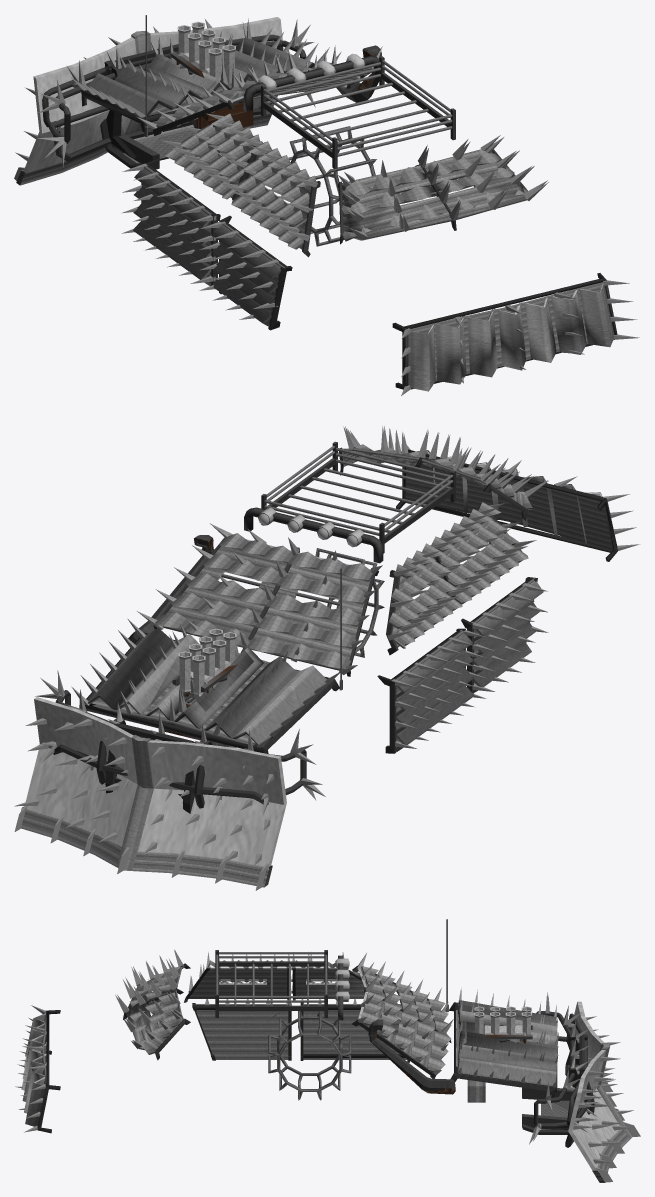
The model's file is CarModernArmor.fbx.
The picture shows the model from 3 angles, top to bottom: view 1: azimuth 30°, elevation 25°; view 2: azimuth 150°, elevation 25°; view 3: azimuth 270°, elevation 25°; orthographic projection. The views are drawn at different scales.
Visible parts, largest first — view 1: trunkreinforcedrear, plow, roofrack, windowheavyrear, hoodreinforcedfront, doorfrontreinforcedleft, windowrearreinforcedleft, windowreinforcedrear, doorrearreinforcedleft, windowfrontreinforcedleft, hoodreinforcedfrontscoop, airscooppiped (+24 smaller); view 2: plow, windowreinforcedfront, plow_spiked, hoodreinforcedfront, hoodreinforcedfrontscoop, roofrack, trunkheavyrear, windowheavyfront, trunkheavyspikedrear, doorfrontreinforcedleft, windowrearreinforcedleft, windowheavyspikedfront (+24 smaller); view 3: hoodreinforcedfront, plow, windowreinforcedfront, doorrearheavyleft, roofrack, hoodreinforcedfrontscoop, doorfrontheavyleft, windowrearheavyleft, chaintires, trunkreinforcedrear, plow_spiked, doorrearheavyspikedleft (+21 smaller).
Part boxes in pixels (x1=…): trunkreinforcedrear: x1=403, y1=278, x2=614, y2=391; plow: x1=14, y1=17, x2=283, y2=185; roofrack: x1=261, y1=56, x2=455, y2=168; windowheavyrear: x1=338, y1=149, x2=527, y2=244; hoodreinforcedfront: x1=87, y1=37, x2=317, y2=122; doorfrontreinforcedleft: x1=133, y1=165, x2=215, y2=285; windowrearreinforcedleft: x1=231, y1=141, x2=315, y2=249; windowreinforcedrear: x1=341, y1=149, x2=527, y2=241; doorrearreinforcedleft: x1=211, y1=222, x2=286, y2=326; windowfrontreinforcedleft: x1=165, y1=113, x2=259, y2=199; hoodreinforcedfrontscoop: x1=89, y1=38, x2=313, y2=123; airscooppiped: x1=171, y1=21, x2=253, y2=128; plow: x1=14, y1=697, x2=286, y2=890; windowreinforcedfront: x1=155, y1=533, x2=372, y2=670; plow_spiked: x1=14, y1=699, x2=283, y2=866; hoodreinforcedfront: x1=85, y1=628, x2=333, y2=752; hoodreinforcedfrontscoop: x1=85, y1=628, x2=333, y2=752; roofrack: x1=261, y1=441, x2=455, y2=553; trunkheavyrear: x1=396, y1=452, x2=617, y2=561; windowheavyfront: x1=156, y1=537, x2=378, y2=676; trunkheavyspikedrear: x1=401, y1=445, x2=640, y2=550; doorfrontreinforcedleft: x1=391, y1=630, x2=474, y2=751; windowrearreinforcedleft: x1=431, y1=502, x2=528, y2=604; windowheavyspikedfront: x1=137, y1=523, x2=382, y2=674; hoodreinforcedfront: x1=454, y1=1000, x2=558, y2=1092; plow: x1=557, y1=1001, x2=640, y2=1182; windowreinforcedfront: x1=361, y1=966, x2=451, y2=1072; doorrearheavyleft: x1=192, y1=1003, x2=291, y2=1060; roofrack: x1=215, y1=950, x2=327, y2=1017; hoodreinforcedfrontscoop: x1=454, y1=1001, x2=557, y2=1086; doorfrontheavyleft: x1=300, y1=1002, x2=409, y2=1062; windowrearheavyleft: x1=184, y1=967, x2=288, y2=1002; chaintires: x1=268, y1=1011, x2=351, y2=1100; trunkreinforcedrear: x1=21, y1=1010, x2=49, y2=1126; plow_spiked: x1=573, y1=1016, x2=634, y2=1163; doorrearheavyspikedleft: x1=196, y1=999, x2=288, y2=1059.
Bounding box in the file's own units: 283 × 220 × 690.
